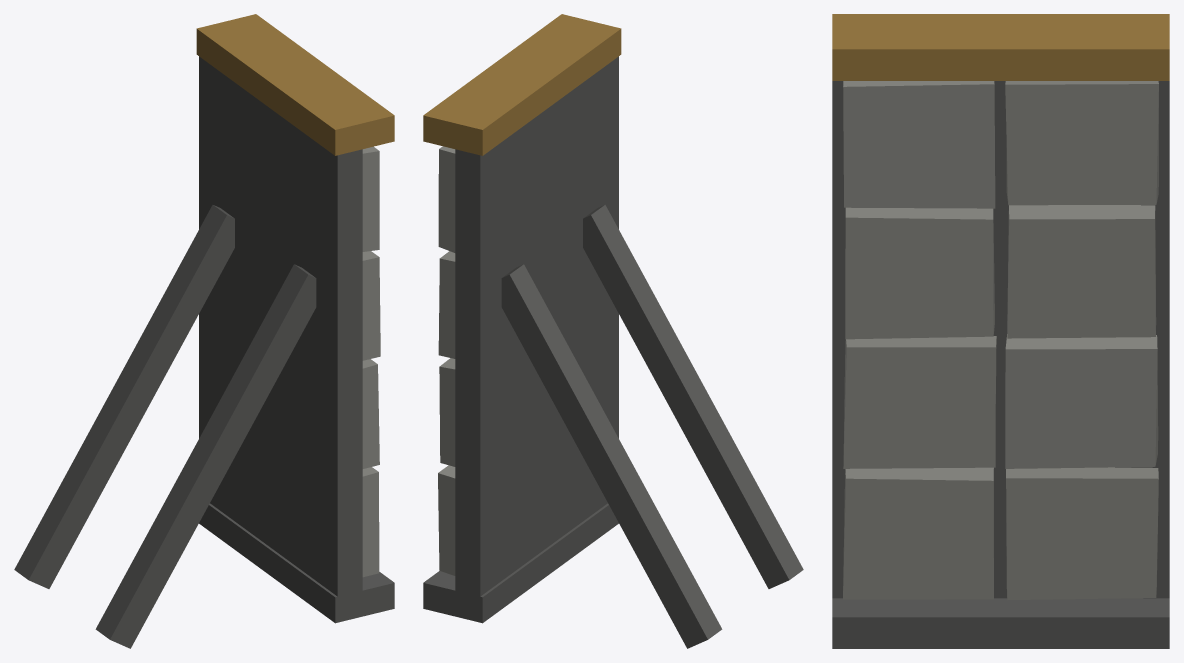
The model's file is arm_ceramic_tile.glb.
The picture shows the model from 3 angles, left to right: view 1: azimuth 30°, elevation 25°; view 2: azimuth 150°, elevation 25°; view 3: azimuth 270°, elevation 25°; orthographic projection. The views are drawn at different scales.
Visible parts, largest first — view 1: arm_ceramic_tile; view 2: arm_ceramic_tile; view 3: arm_ceramic_tile.
Part boxes in pixels (x1=…): arm_ceramic_tile: x1=14, y1=14, x2=394, y2=648; arm_ceramic_tile: x1=423, y1=14, x2=803, y2=648; arm_ceramic_tile: x1=832, y1=14, x2=1169, y2=648.
Bounding box in the file's own units: 0.5309 × 0.95 × 0.484.
